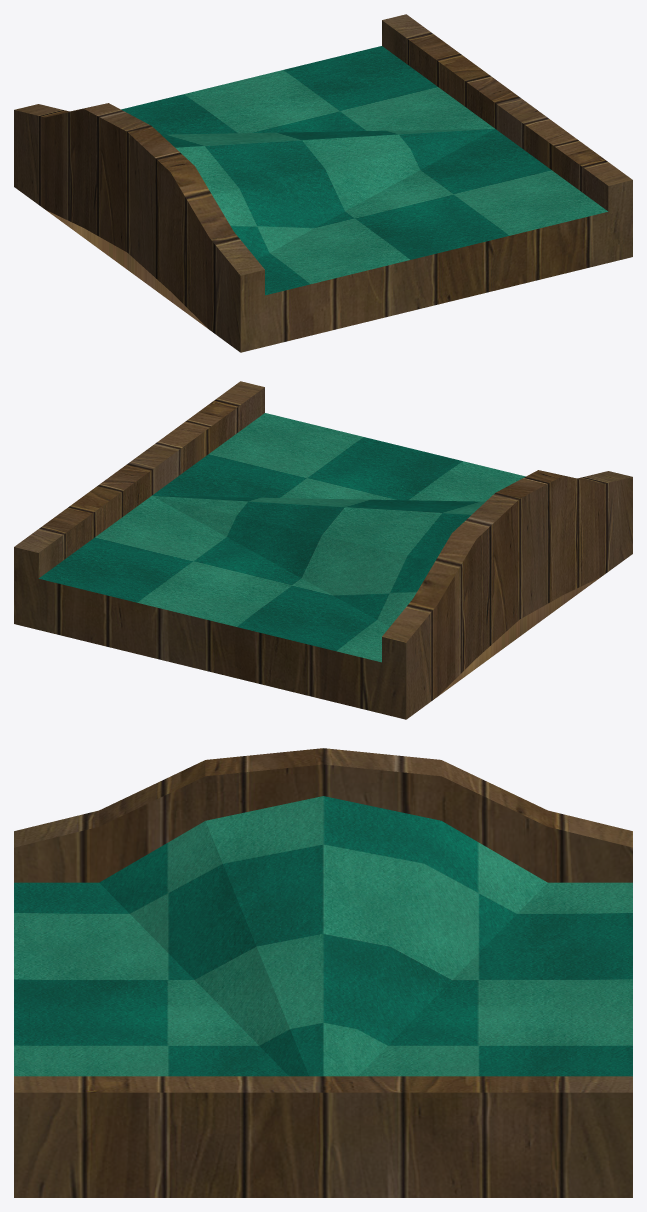
The model's file is Part2_bend.gltf.
The picture shows the model from 3 angles, top to bottom: view 1: azimuth 30°, elevation 25°; view 2: azimuth 150°, elevation 25°; view 3: azimuth 270°, elevation 25°; orthographic projection. The views are drawn at different scales.
Parts seen in each view (by area): view 1: Part2_bend_glb; view 2: Part2_bend_glb; view 3: Part2_bend_glb.
Boxes of the visible parts, left/top/right/bottom form: Part2_bend_glb: left=14, top=14, right=632, bottom=352; Part2_bend_glb: left=14, top=381, right=632, bottom=719; Part2_bend_glb: left=14, top=748, right=632, bottom=1197.
Size of what is drawn, in the model's own units: 4 by 1.34 by 4.
Materials: 2 (2 with a texture image).
